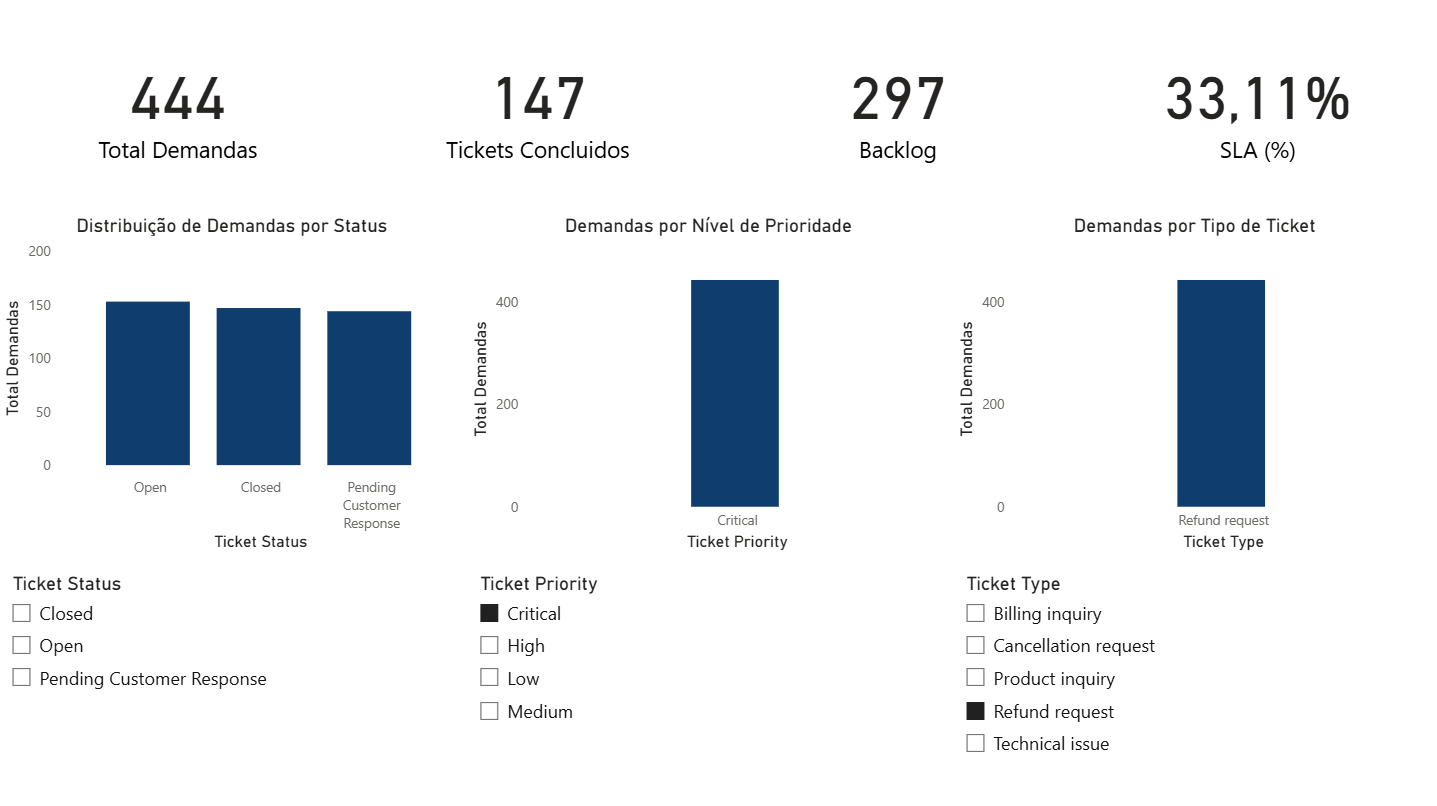

This screenshot's page, from the dashboard's own definition file:
{"tool":"powerbi","page":{"name":"Página 1","canvas":[1280,720],"ordinal":0},"visuals":[{"type":"card","title":"Total Demandas","fields":{"Values":["customer_support_tickets.Total Demandas"]},"box":[0,0,320,192],"z":0},{"type":"card","fields":{"Values":["customer_support_tickets.Tickets Concluidos"]},"box":[320,0,320,192],"z":1000},{"type":"card","fields":{"Values":["customer_support_tickets.Backlog"]},"box":[640,0,320,192],"z":2000},{"type":"card","fields":{"Values":["customer_support_tickets.SLA (%)"]},"box":[960,0,320,192],"z":3000},{"type":"columnChart","title":"Distribuição de Demandas por Status","fields":{"Category":["customer_support_tickets.Ticket Status"],"Y":["customer_support_tickets.Total Demandas"]},"box":[0,192,416,304],"z":4000},{"type":"columnChart","title":"Demandas por Nível de Prioridade","fields":{"Category":["customer_support_tickets.Ticket Priority"],"Y":["customer_support_tickets.Total Demandas"]},"box":[416,192,432,304],"z":5000},{"type":"columnChart","title":"Demandas por Tipo de Ticket","fields":{"Category":["customer_support_tickets.Ticket Type"],"Y":["customer_support_tickets.Total Demandas"]},"box":[848,192,432,304],"z":6000},{"type":"slicer","fields":{"Values":["customer_support_tickets.Ticket Status"]},"box":[0,506,416,214],"z":7000},{"type":"slicer","fields":{"Values":["customer_support_tickets.Ticket Priority"]},"box":[416,506,432,214],"z":8000},{"type":"slicer","fields":{"Values":["customer_support_tickets.Ticket Type"]},"box":[848,506,432,214],"z":9000}]}

Visuals, with their boxes in screenshot pixels (x1, y1, x2, y2), scaled from the page's 1280x720 canvas onto the 1437x806 screenshot:
"Total Demandas" card: [0, 0, 359, 215]
card - customer_support_tickets.Tickets Concluidos: [359, 0, 718, 215]
card - customer_support_tickets.Backlog: [718, 0, 1078, 215]
card - customer_support_tickets.SLA (%): [1078, 0, 1436, 215]
"Distribuição de Demandas por Status" columnChart: [0, 215, 467, 555]
"Demandas por Nível de Prioridade" columnChart: [467, 215, 952, 555]
"Demandas por Tipo de Ticket" columnChart: [952, 215, 1436, 555]
slicer - customer_support_tickets.Ticket Status: [0, 566, 467, 805]
slicer - customer_support_tickets.Ticket Priority: [467, 566, 952, 805]
slicer - customer_support_tickets.Ticket Type: [952, 566, 1436, 805]
